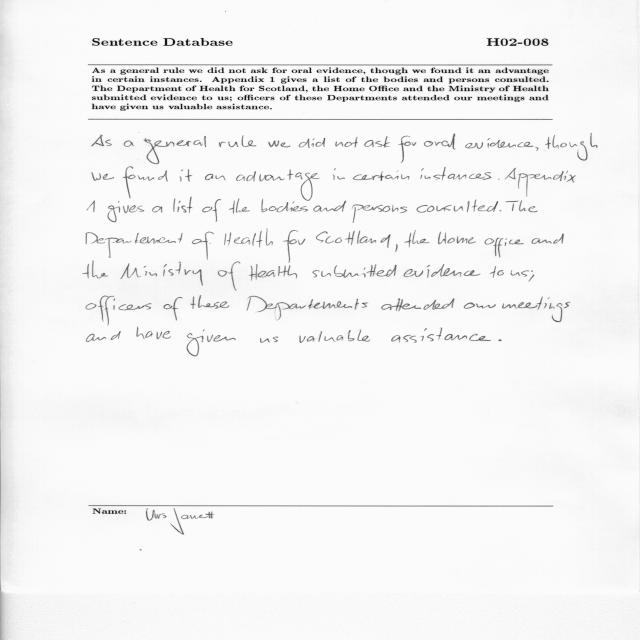word: (247, 296, 368, 320), (236, 169, 320, 201), (86, 232, 183, 258), (120, 261, 203, 286), (505, 168, 576, 197), (86, 296, 152, 326), (144, 136, 206, 164), (502, 297, 570, 322), (391, 328, 491, 343), (545, 133, 598, 161), (122, 167, 168, 198), (316, 230, 391, 248), (187, 330, 236, 357), (313, 264, 397, 278), (404, 264, 481, 278), (417, 200, 499, 213), (352, 205, 407, 224), (299, 329, 370, 343), (382, 299, 455, 312), (224, 229, 273, 248), (421, 167, 492, 180), (249, 264, 297, 281), (108, 201, 145, 223), (485, 238, 524, 258), (283, 230, 306, 263), (466, 138, 534, 149), (218, 261, 240, 291), (192, 232, 214, 260), (261, 199, 308, 212), (353, 171, 409, 181), (424, 134, 456, 150), (191, 296, 229, 309), (399, 136, 417, 163), (438, 232, 476, 244), (164, 297, 183, 321), (405, 230, 430, 248), (219, 135, 256, 147), (202, 199, 221, 222), (83, 261, 108, 278), (136, 327, 171, 339), (505, 200, 538, 212), (86, 331, 121, 342), (313, 201, 346, 212), (531, 233, 564, 244), (229, 198, 250, 214), (364, 136, 390, 148), (173, 197, 192, 213), (124, 140, 138, 160), (511, 270, 535, 281), (299, 138, 325, 148), (335, 137, 358, 148), (92, 135, 112, 147), (464, 302, 496, 309), (92, 172, 114, 181), (180, 169, 193, 182), (490, 266, 504, 278), (332, 168, 345, 180), (268, 141, 290, 148), (205, 174, 226, 180), (260, 336, 278, 343), (87, 201, 95, 212), (152, 206, 162, 213), (395, 244, 398, 252), (535, 147, 538, 151), (498, 339, 502, 341), (531, 270, 533, 272), (500, 210, 502, 211), (498, 179, 500, 179)
